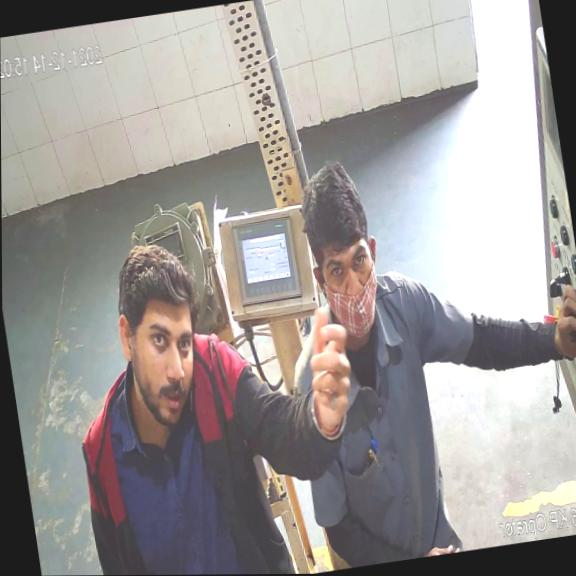no_safety_vest: (305, 274, 452, 569), (90, 347, 257, 575)
